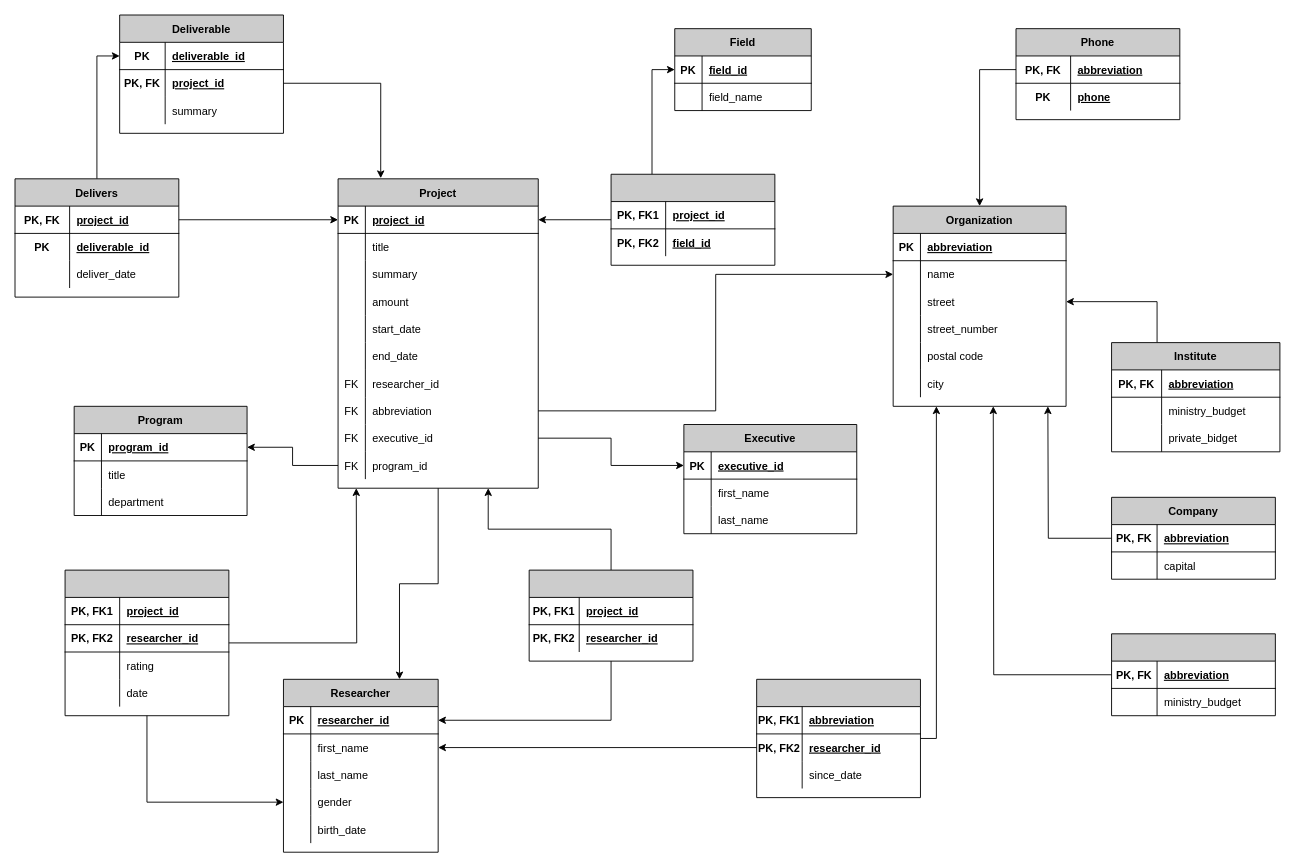
The diagram is 1295 pixels wide and 867 high, and some of its shapes have lost their labels. Here are the shapes that lost their labels. From the top down, the box of each, then its label:
(610, 173, 775, 265): FieldProject
(528, 569, 693, 661): WorksOn
(64, 569, 229, 716): Evaluates
(1111, 633, 1275, 716): University
(756, 678, 920, 798): Works_For
